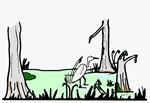bird: (65, 55, 96, 91)
